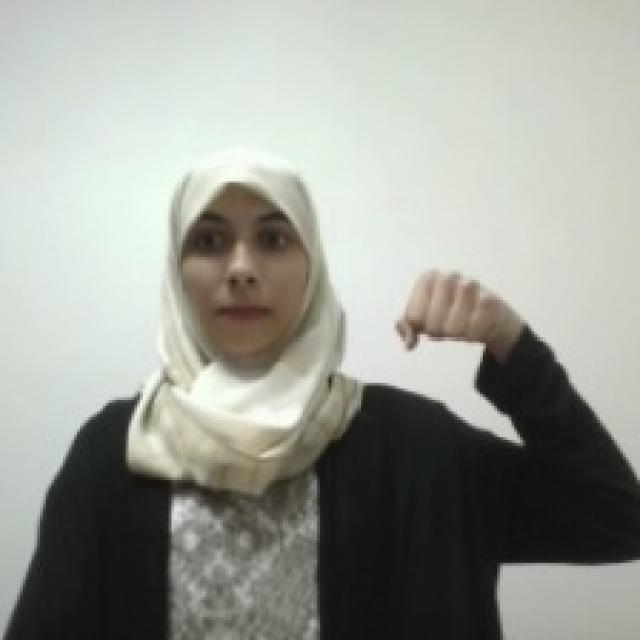yes: (391, 260, 513, 356)
